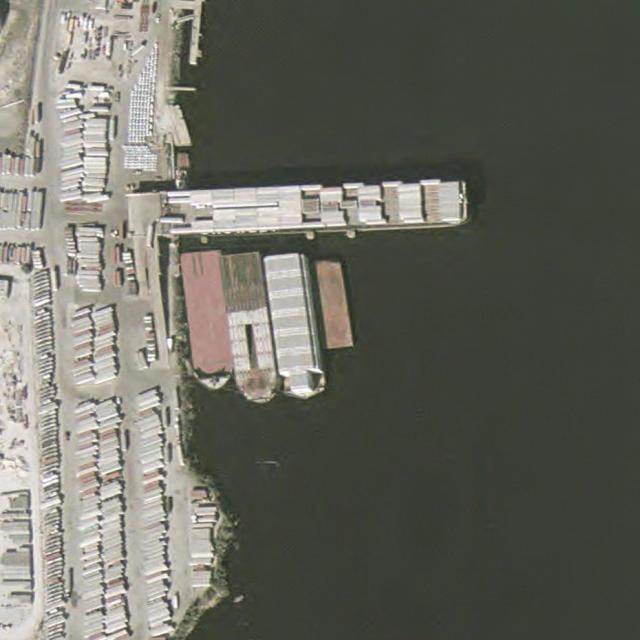Container Ship: (159, 176, 473, 239), (216, 249, 284, 409), (261, 250, 328, 403), (178, 249, 236, 394)
